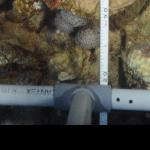dead: (1, 2, 147, 124)
